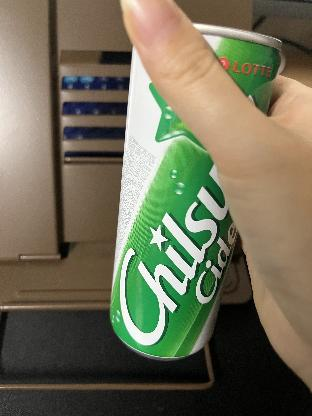Can: (109, 43, 237, 362), (196, 24, 282, 118)
